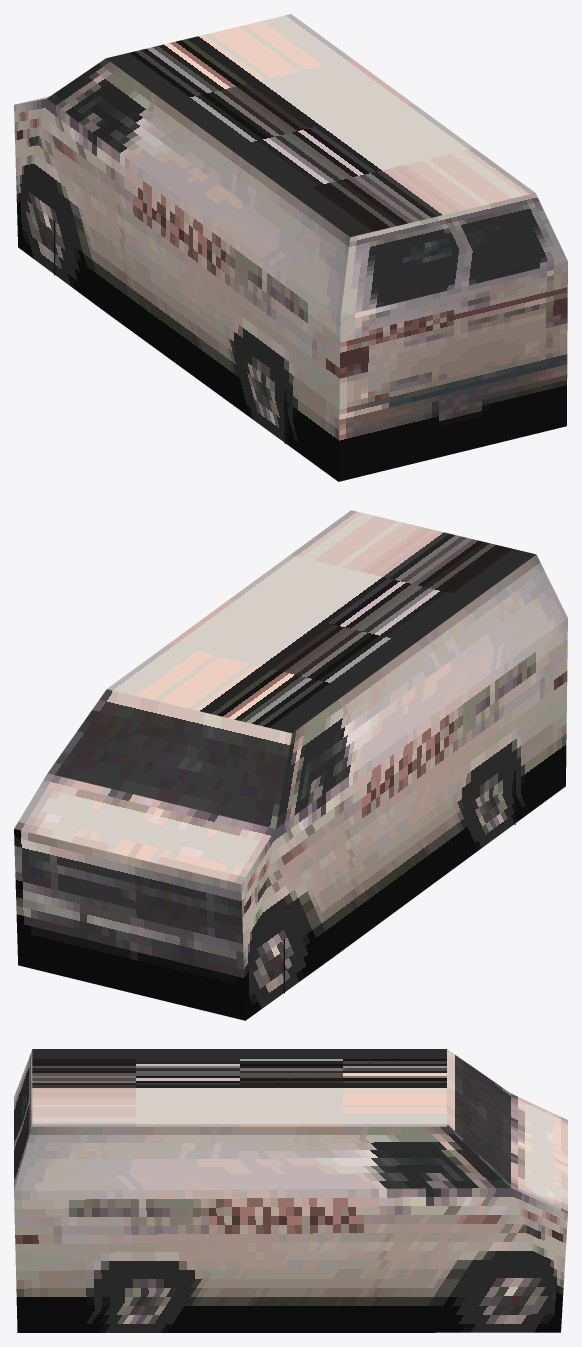
File: car-probe94.glb
3 renders of one model, top to bottom at view 1: azimuth 30°, elevation 25°; view 2: azimuth 150°, elevation 25°; view 3: azimuth 270°, elevation 25°, orthographic. The views are drawn at different scales.
Visible parts, largest first — view 1: car-probe94; view 2: car-probe94; view 3: car-probe94.
Part boxes in pixels (<box>): car-probe94: <box>14,14,567,481</box>; car-probe94: <box>14,510,567,1020</box>; car-probe94: <box>14,1049,567,1332</box>.
Size of the model in its own units: 2.01 by 1.95 by 4.94.
12 materials, 12 textured.
